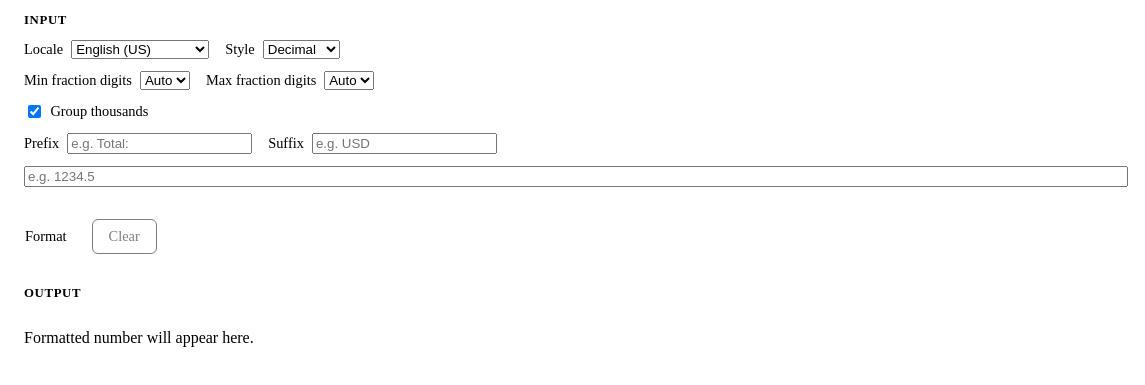
Scenario: NumberFormatterTool › reflects a locale change
This screenshot has width=1145, height=385.
Select "German (Germany)" in the dropdown labelled "Locale": [140, 50] box [71, 40, 209, 59]
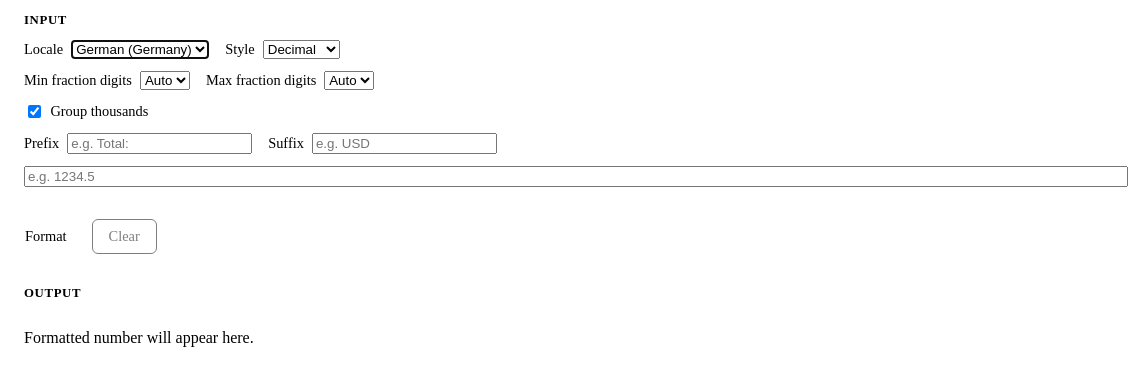
In the field named "Number input": [576, 176] box [24, 166, 1128, 187], type "1234.5"
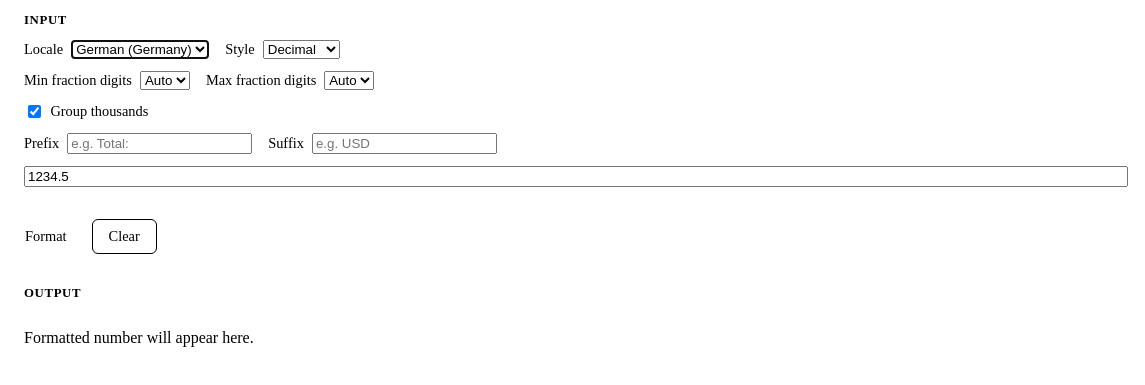
Click the button "Format": [46, 236] box [8, 219, 84, 254]
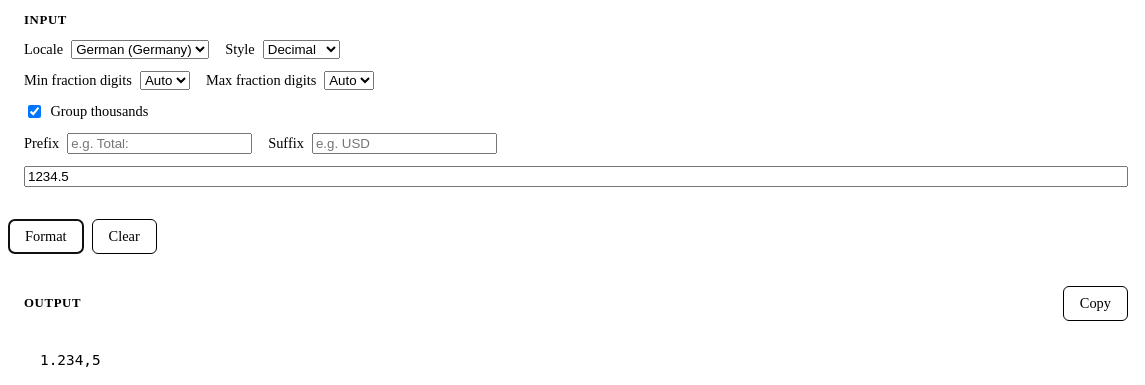
Result: the text with test id "number-output" reads "1.234,5" at [40, 352, 101, 368]
